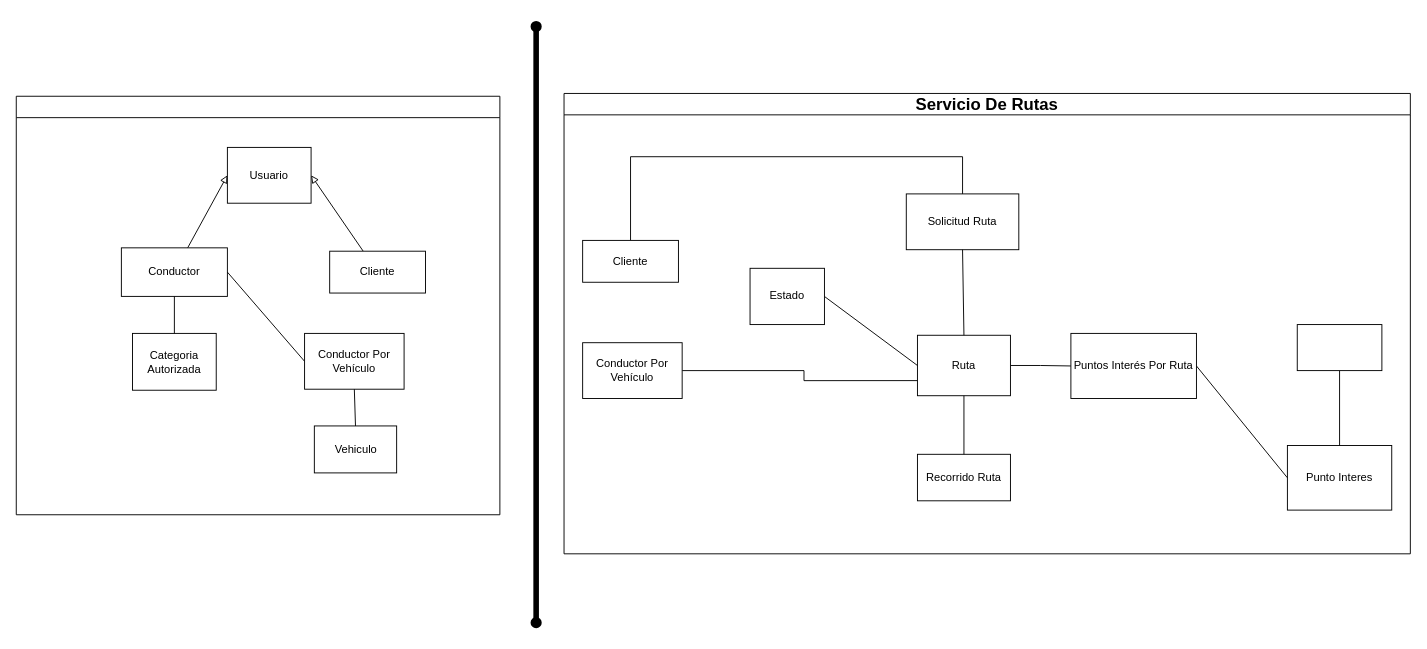
Some shapes in this 1427 by 649 pixel diagram are drawn without their labels. The shapes that lost their labels are listed below. From the top down, each one's centre as x and y in pixels, then its label:
At (257,305): "Gestionar Usuarios".
At (1339,347): "Ciudad".
